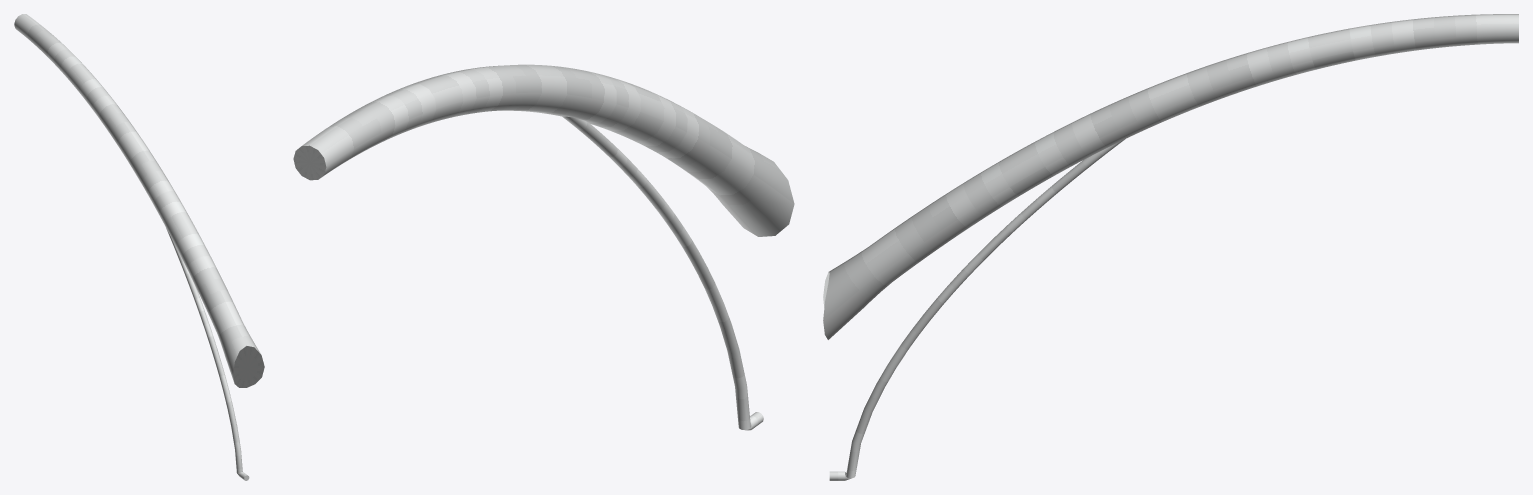
Rendered from luminairearm_laupsweep10ft_inv.obj.
3 renders of one model, left to right at view 1: azimuth 30°, elevation 25°; view 2: azimuth 150°, elevation 25°; view 3: azimuth 270°, elevation 25°, orthographic. The views are drawn at different scales.
Visible parts, largest first — view 1: luminairearm_laupsweep10ft_inv; view 2: luminairearm_laupsweep10ft_inv; view 3: luminairearm_laupsweep10ft_inv.
Boxes of the visible parts, left/top/right/bottom form: luminairearm_laupsweep10ft_inv: left=14, top=14, right=264, bottom=480; luminairearm_laupsweep10ft_inv: left=293, top=64, right=794, bottom=430; luminairearm_laupsweep10ft_inv: left=823, top=14, right=1518, bottom=480.
Bounding box in the file's own units: 0.081 × 0.7378 × 1.
